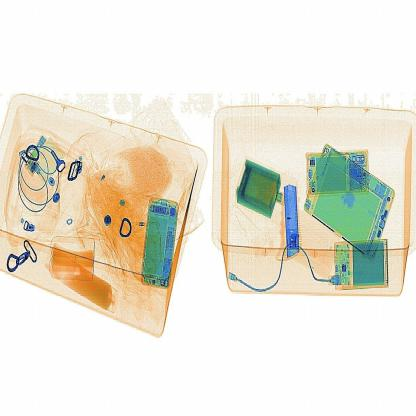pliers: (272, 177, 310, 271)
